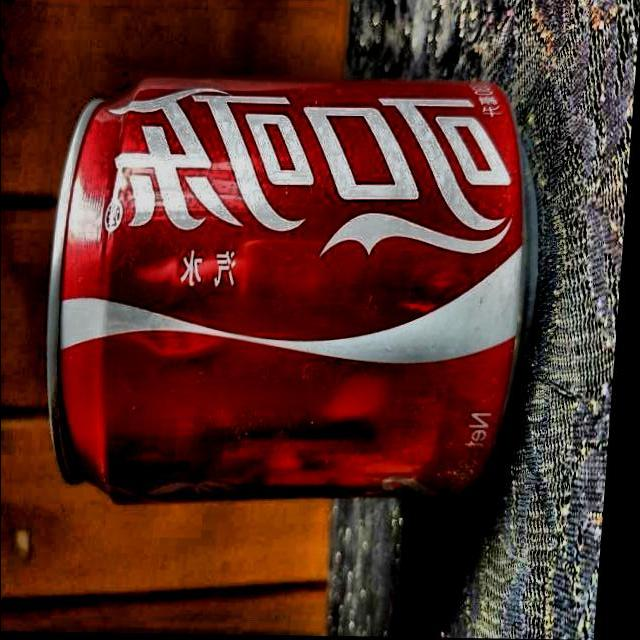litter: (41, 68, 564, 512)
